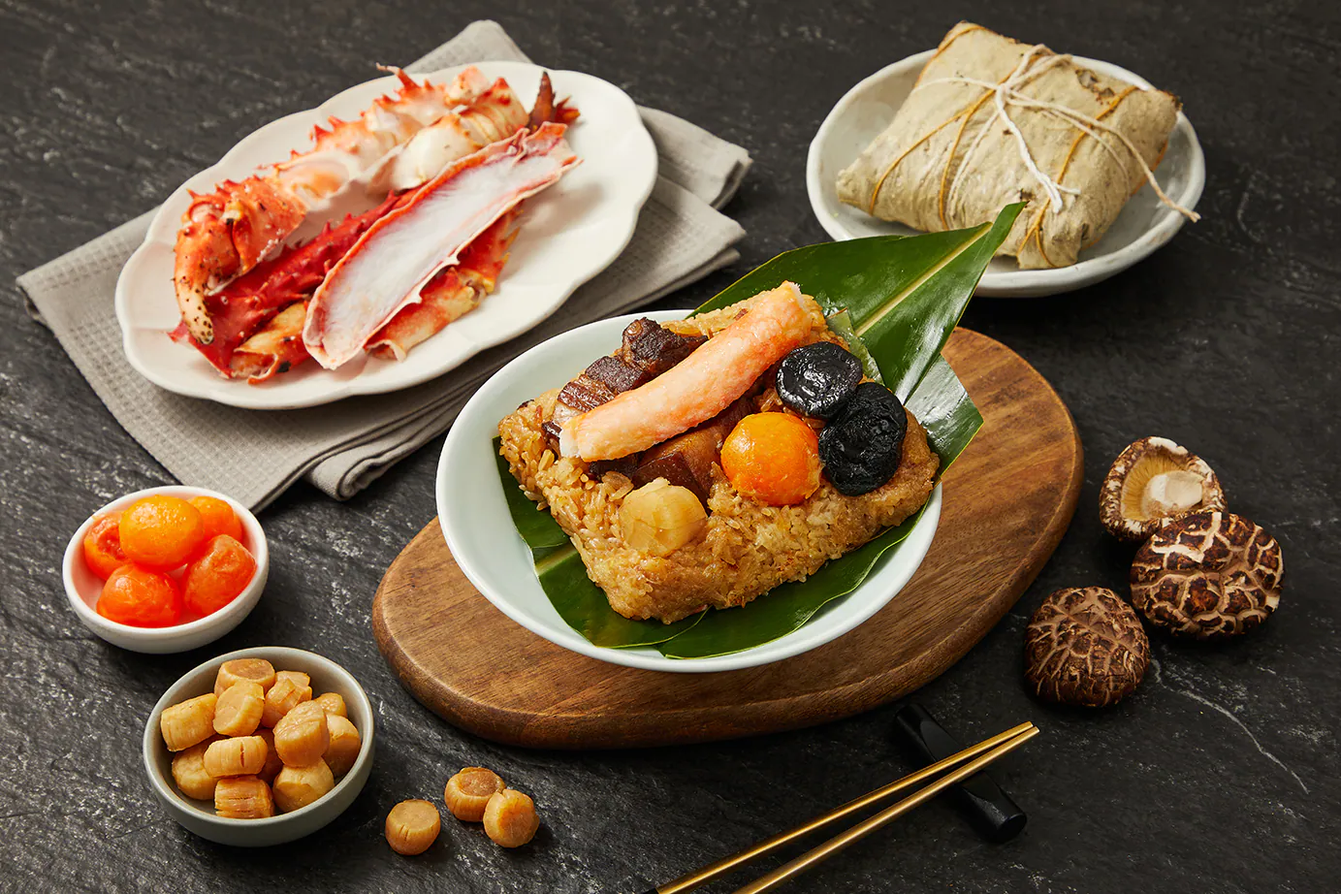zongzi: (500, 281, 939, 623), (836, 24, 1179, 268)
